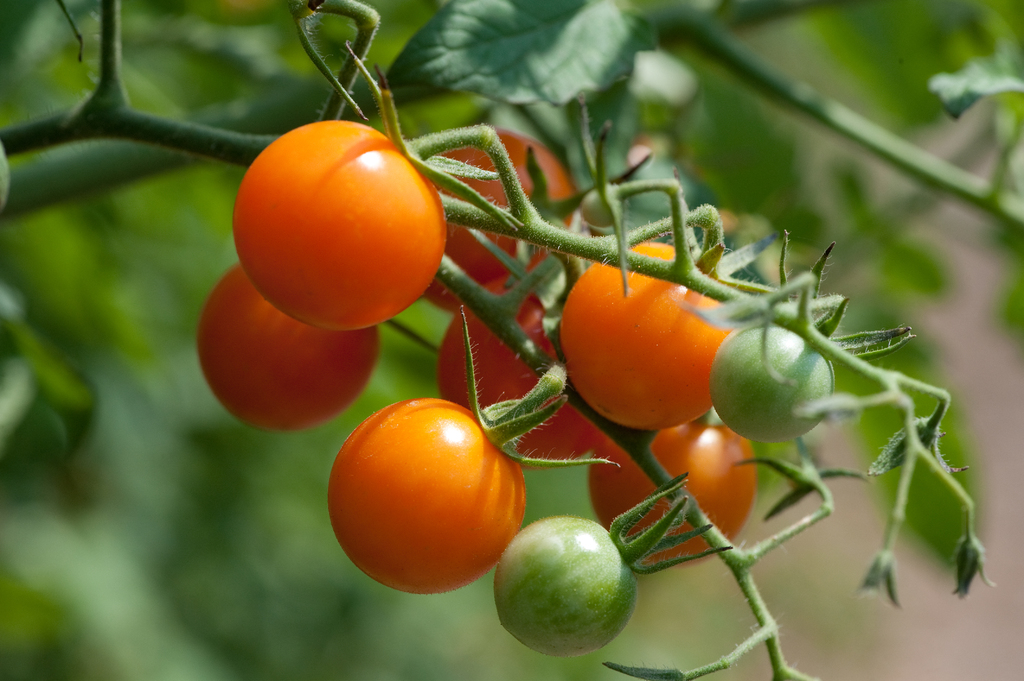Tomato: (195, 120, 834, 656)
